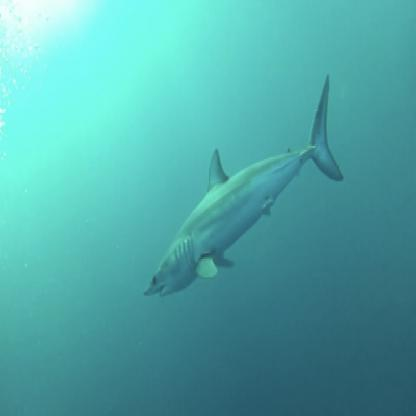Bio: (142, 70, 344, 303)
